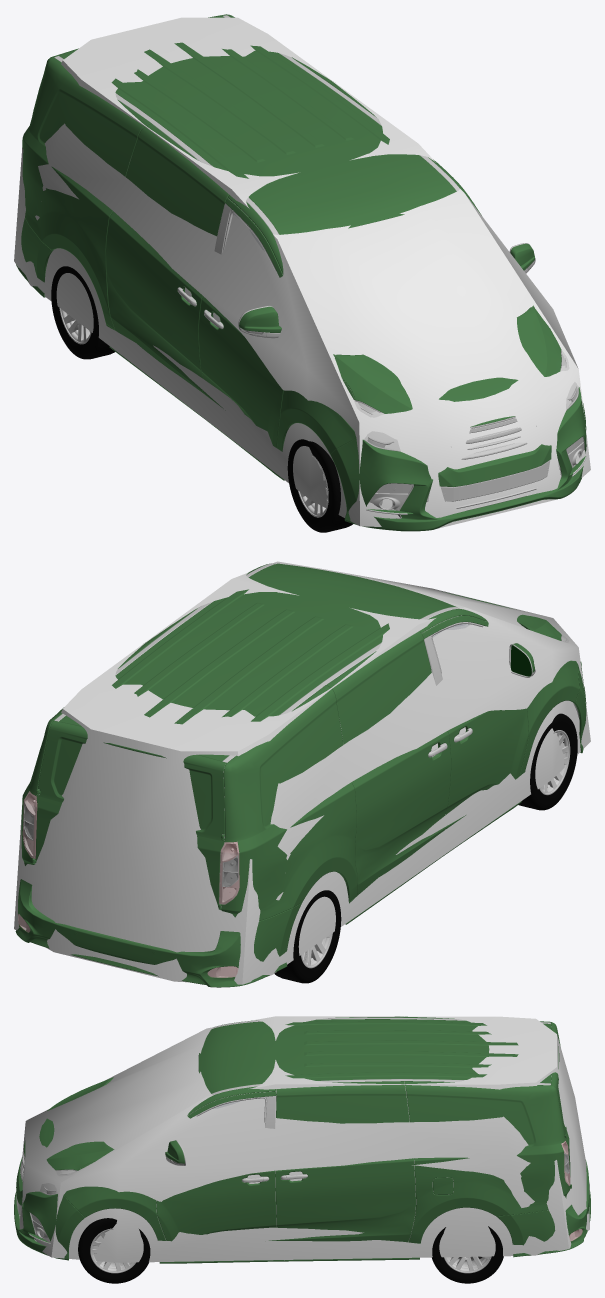
The model's file is Cargo Van Car.fbx.
The picture shows the model from 3 angles, top to bottom: view 1: azimuth 30°, elevation 25°; view 2: azimuth 150°, elevation 25°; view 3: azimuth 270°, elevation 25°; orthographic projection. The views are drawn at different scales.
Visible parts, largest first — view 1: Body, Col, Wheel_FR, Wheel_RR; view 2: Body, Col, Wheel_FR, Wheel_RR; view 3: Body, Col, Wheel_FL, Wheel_RL.
Part boxes in pixels (x1,y1,x2,y2): Body: (16, 14, 586, 531); Col: (14, 17, 590, 528); Wheel_FR: (287, 439, 352, 532); Wheel_RR: (51, 266, 114, 359); Body: (15, 563, 586, 987); Col: (14, 561, 590, 984); Wheel_FR: (518, 713, 577, 810); Wheel_RR: (274, 890, 341, 983); Body: (14, 1016, 590, 1263); Col: (19, 1016, 589, 1262); Wheel_FL: (78, 1218, 150, 1283); Wheel_RL: (432, 1226, 503, 1283).
Bounding box in the file's own units: 231 × 525 × 194.
